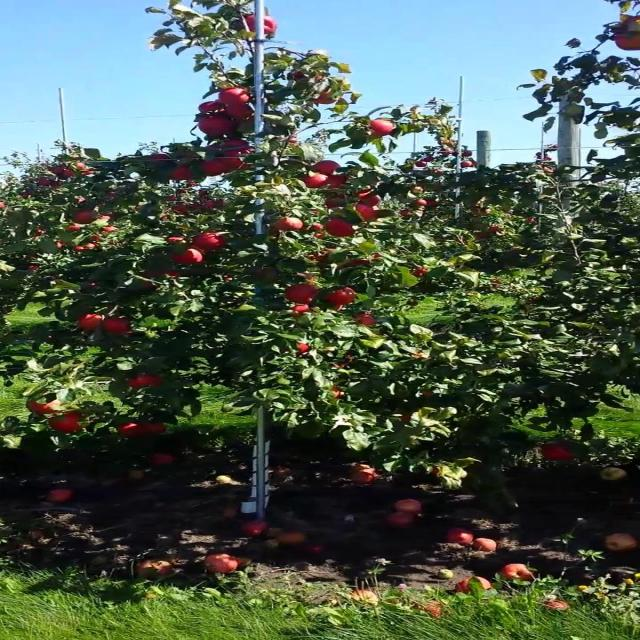apple: (198, 116, 235, 136), (540, 444, 576, 461), (141, 272, 178, 288), (248, 16, 277, 36), (49, 416, 82, 432), (340, 256, 382, 268), (220, 88, 251, 104), (369, 120, 398, 137), (326, 288, 356, 304), (326, 220, 356, 236), (28, 400, 57, 416), (291, 288, 320, 304), (227, 104, 256, 119), (198, 236, 228, 250), (77, 316, 103, 331), (227, 152, 247, 171), (106, 320, 133, 334), (205, 160, 228, 176), (276, 220, 306, 232), (134, 376, 164, 388), (362, 192, 384, 207), (177, 252, 204, 264), (618, 36, 638, 52), (312, 164, 341, 175), (355, 208, 377, 221), (326, 196, 347, 209), (120, 424, 142, 436), (305, 176, 327, 188), (326, 176, 348, 188), (340, 260, 373, 268), (355, 204, 377, 216), (198, 104, 226, 113), (77, 212, 98, 224), (234, 120, 256, 130), (177, 204, 197, 215), (319, 92, 336, 104), (355, 316, 377, 325), (227, 140, 249, 149), (148, 424, 169, 433), (312, 252, 329, 263), (177, 168, 192, 180), (412, 268, 427, 278), (298, 276, 316, 284), (333, 388, 345, 400), (291, 308, 311, 315), (326, 200, 341, 209), (298, 344, 311, 354), (291, 72, 306, 80), (625, 16, 638, 24), (148, 156, 171, 160), (433, 468, 441, 477)
